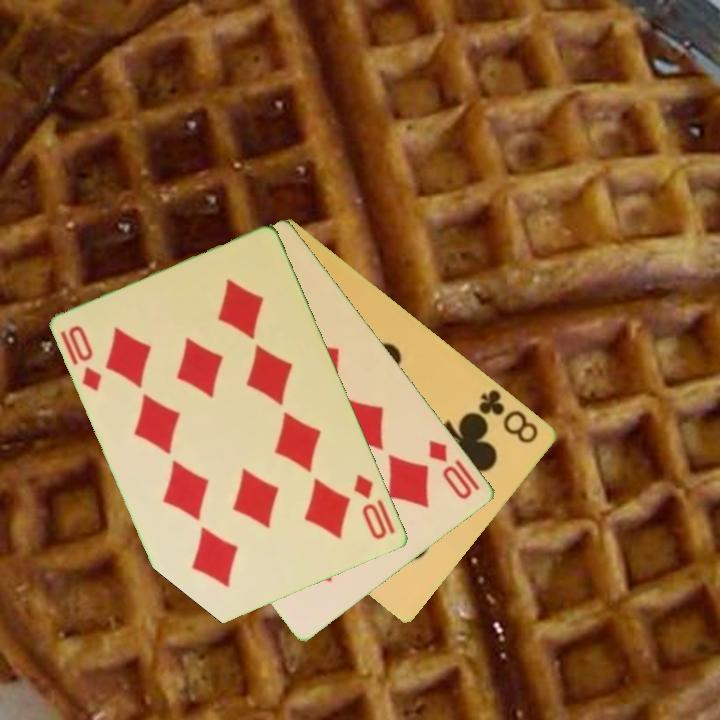10d: (350, 471, 399, 543), (425, 436, 476, 503), (65, 322, 106, 395)
8c: (475, 385, 542, 447)
